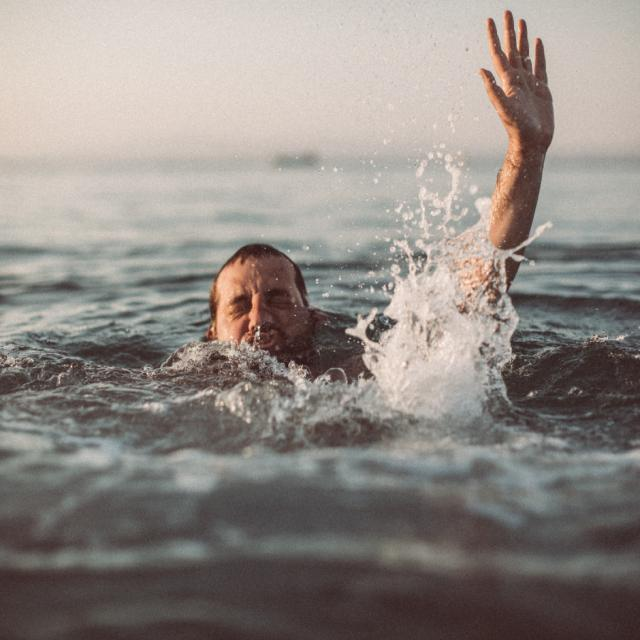drowning: (140, 0, 589, 464)
